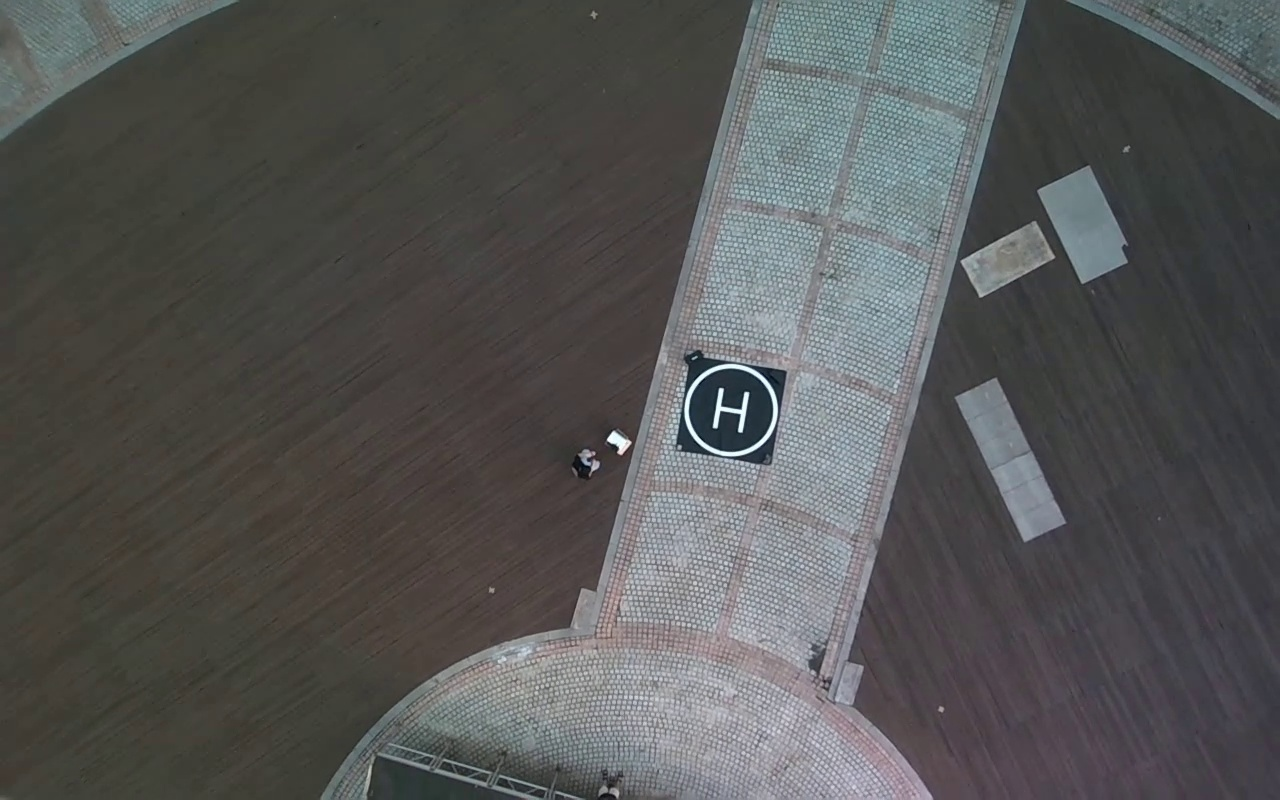H: (711, 386, 750, 434)
heliport: (683, 363, 780, 458)
